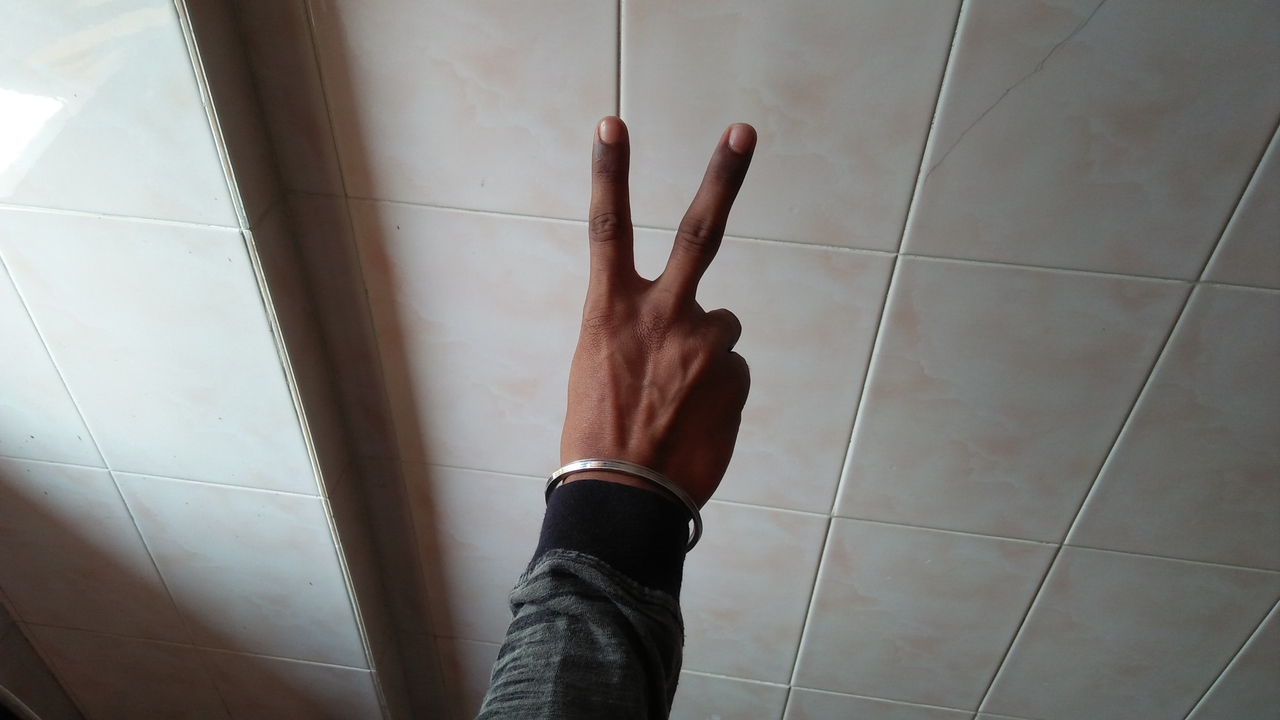fingertip: (706, 112, 764, 160), (584, 112, 636, 156)
